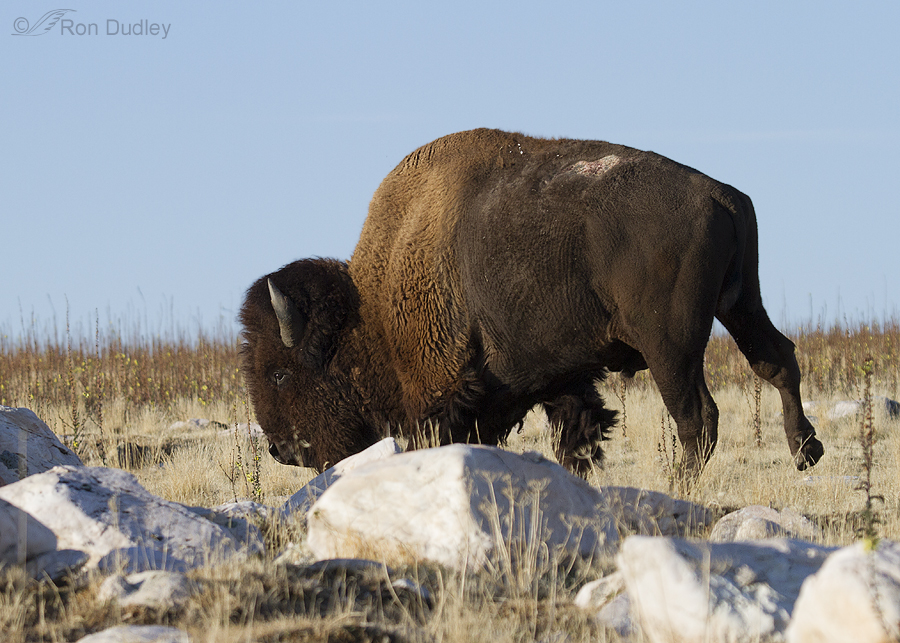yak: (233, 120, 820, 513)
